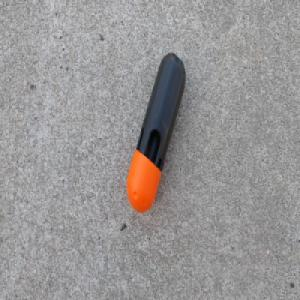PlasticPart: (125, 53, 184, 213)
